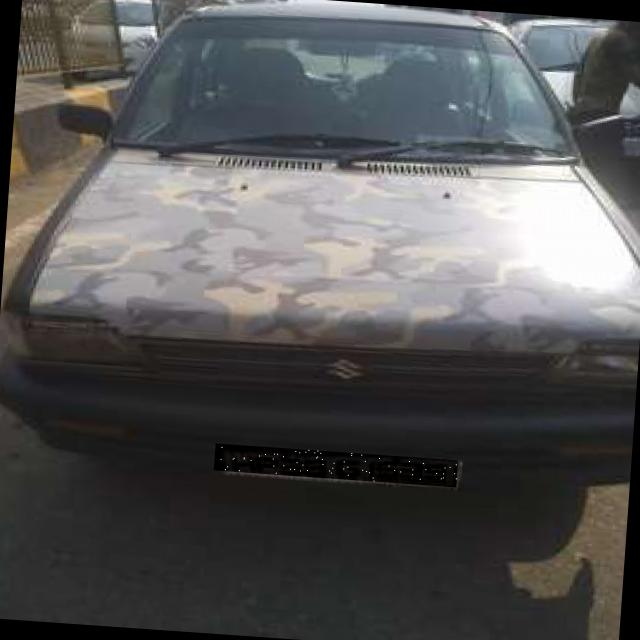Plate: (215, 444, 459, 488)
